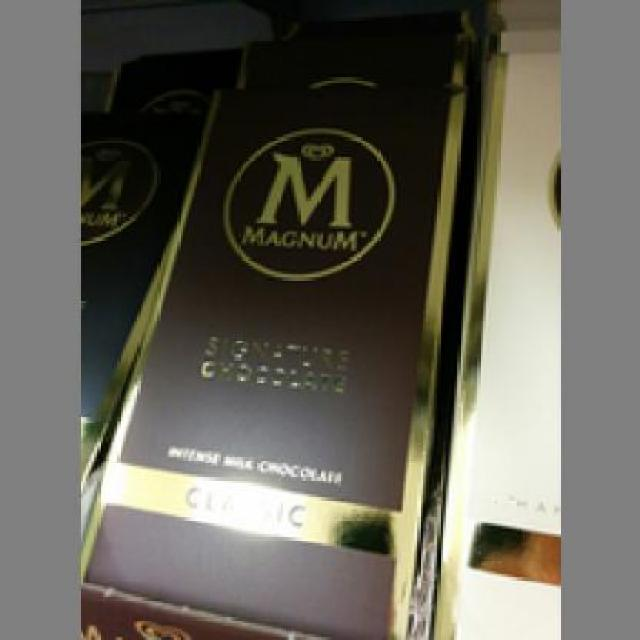Chocolate: (106, 93, 454, 630)
